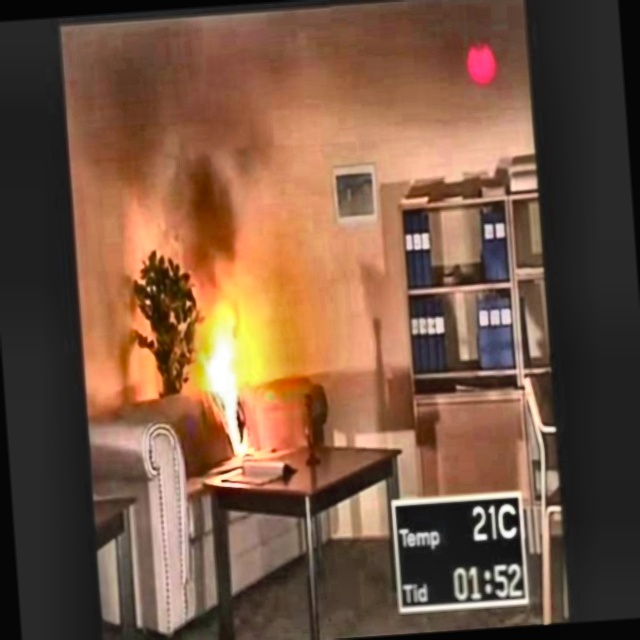fire: (193, 311, 254, 436)
